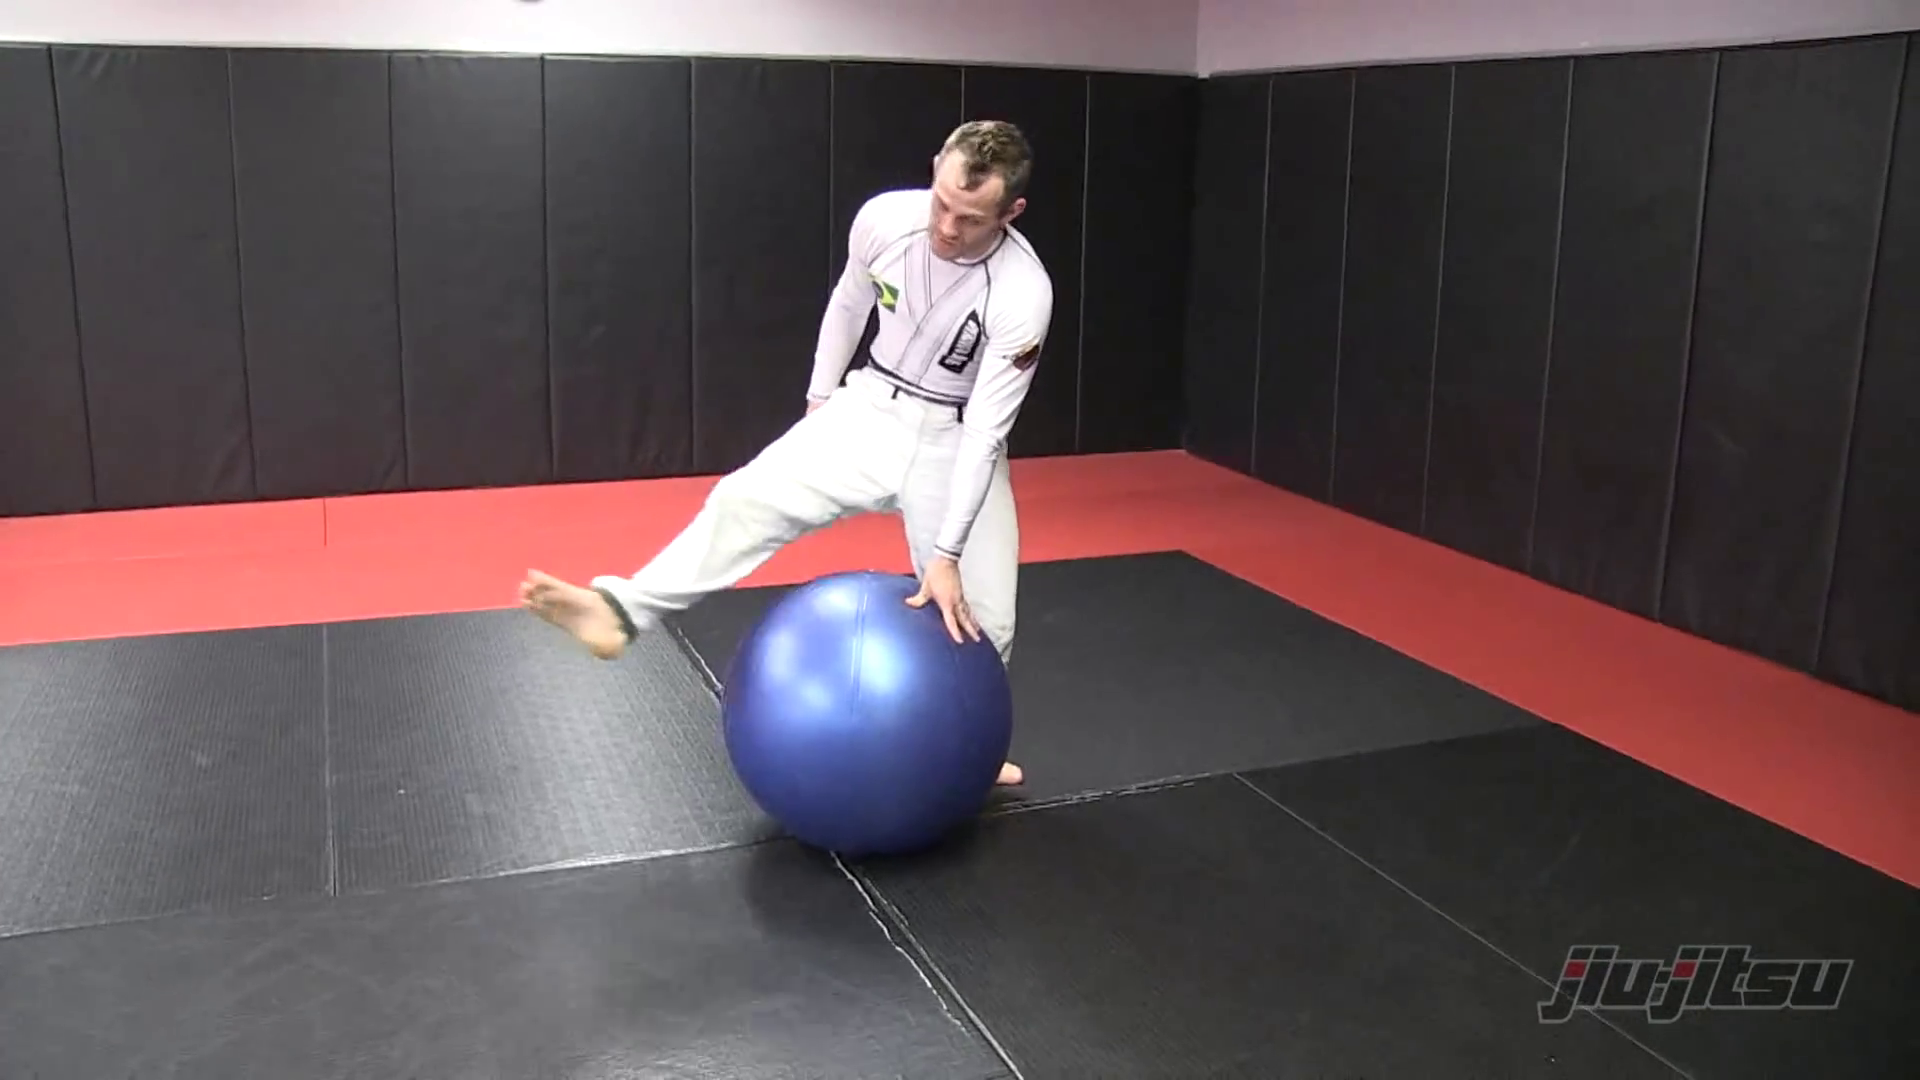yogaball: (719, 554, 1019, 870)
